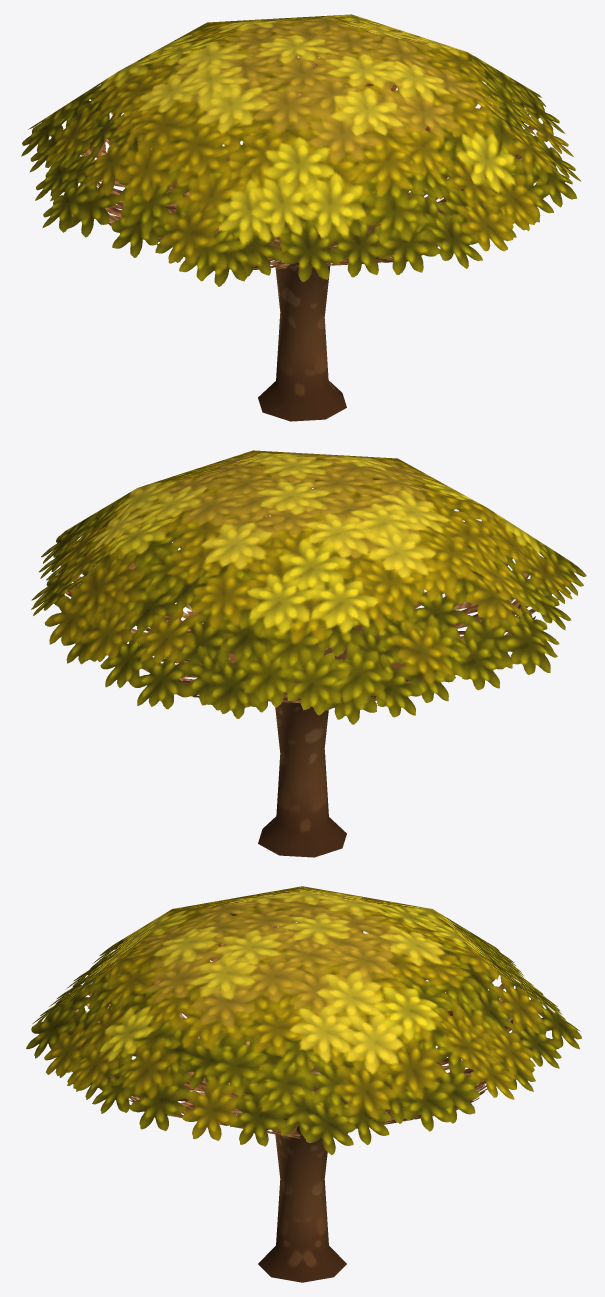
The model's file is Tree_05c.FBX.
The picture shows the model from 3 angles, top to bottom: view 1: azimuth 30°, elevation 25°; view 2: azimuth 150°, elevation 25°; view 3: azimuth 270°, elevation 25°; orthographic projection. The views are drawn at different scales.
Parts seen in each view (by area): view 1: Tree_05c; view 2: Tree_05c; view 3: Tree_05c.
Part boxes in pixels (left/top/right/bottom): Tree_05c: left=21, top=14, right=580, bottom=421; Tree_05c: left=31, top=450, right=586, bottom=857; Tree_05c: left=26, top=886, right=581, bottom=1282.
Size of the model in its own units: 88.51 by 57.33 by 88.51.
